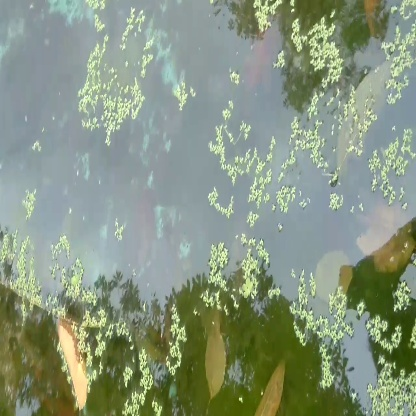leaf: (46, 319, 104, 409), (196, 323, 231, 407)
